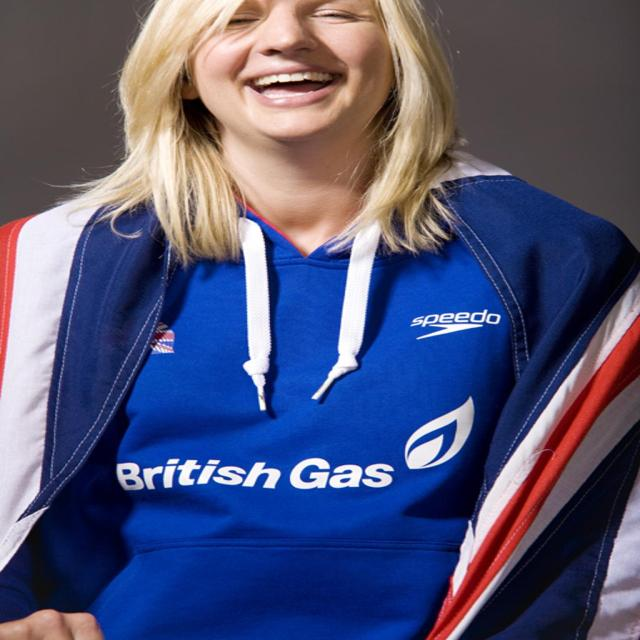Face: (172, 1, 424, 151)
